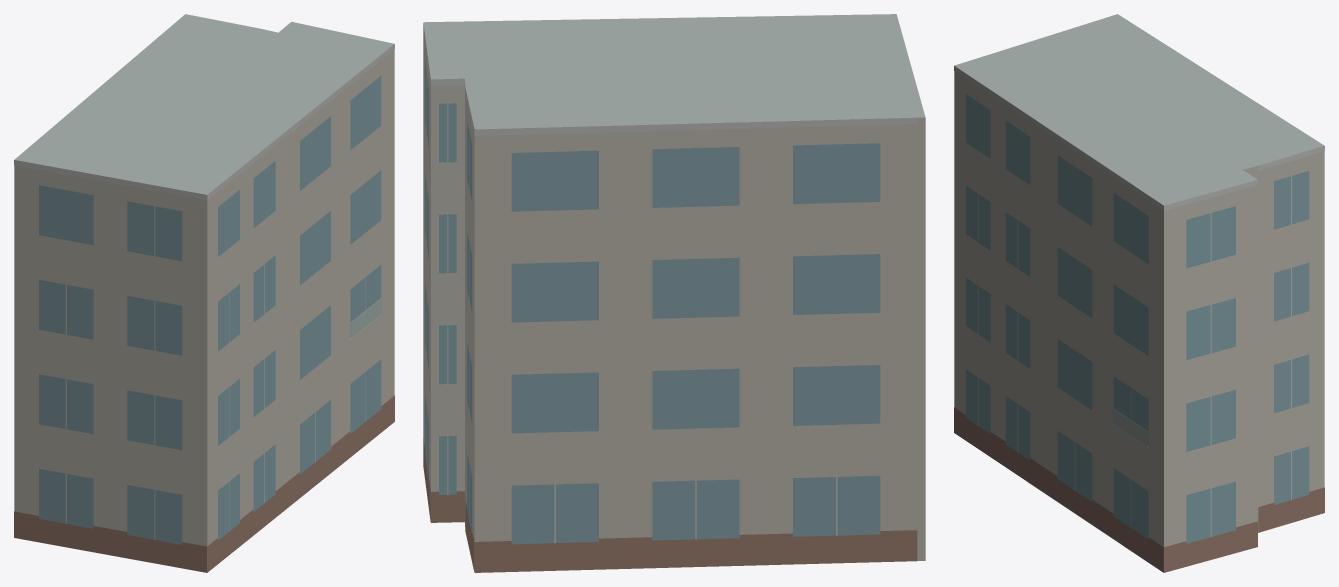
Rendered from survey-upis-32481637.glb.
3 renders of one model, left to right at view 1: azimuth 30°, elevation 25°; view 2: azimuth 150°, elevation 25°; view 3: azimuth 270°, elevation 25°, orthographic. The views are drawn at different scales.
Visible parts, largest first — view 1: survey-upis-32481637.tmp; view 2: survey-upis-32481637.tmp; view 3: survey-upis-32481637.tmp.
Boxes of the visible parts, x1=… form: survey-upis-32481637.tmp: x1=14, y1=14, x2=394, y2=572; survey-upis-32481637.tmp: x1=423, y1=14, x2=925, y2=572; survey-upis-32481637.tmp: x1=954, y1=14, x2=1324, y2=572.
Bounding box in the file's own units: 18.87 × 16.85 × 15.42.
